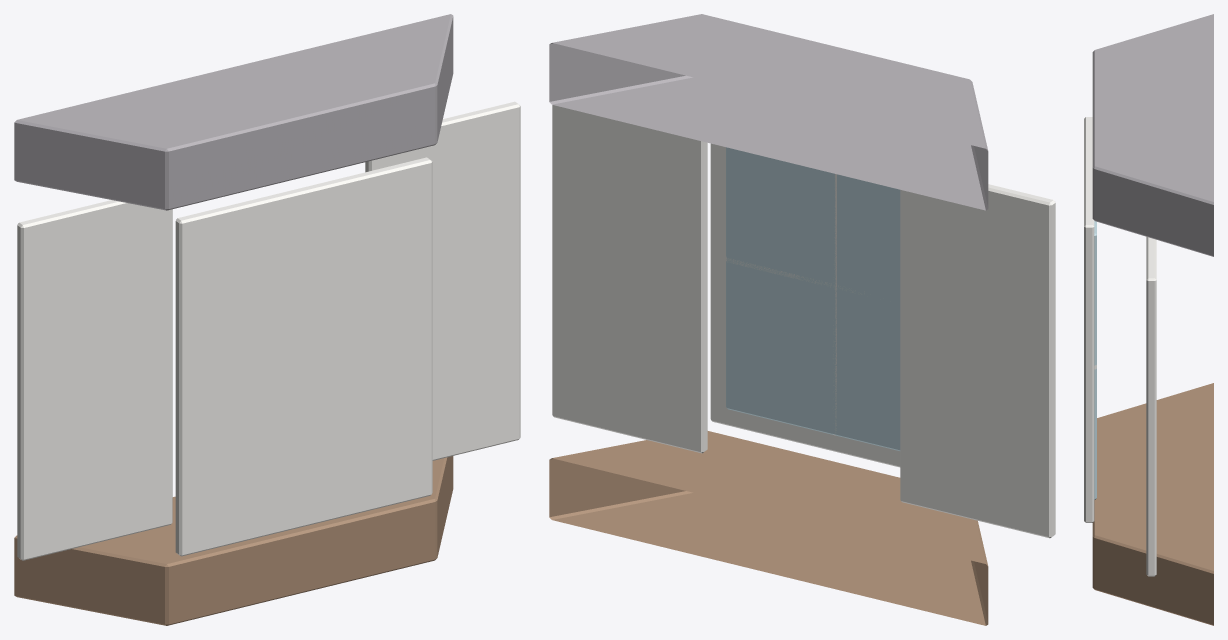
File: SM_Bay_Window.fbx
The picture shows the model from 3 angles, left to right: view 1: azimuth 30°, elevation 25°; view 2: azimuth 150°, elevation 25°; view 3: azimuth 270°, elevation 25°; orthographic projection. The views are drawn at different scales.
Parts seen in each view (by area): view 1: Bay_Window; view 2: Bay_Window; view 3: Bay_Window.
Part boxes in pixels (x1,y1,x2,y2): Bay_Window: (14,14,520,625); Bay_Window: (549,14,1055,625); Bay_Window: (1084,14,1213,625).
Bounding box in the file's own units: 296 × 270 × 75.
